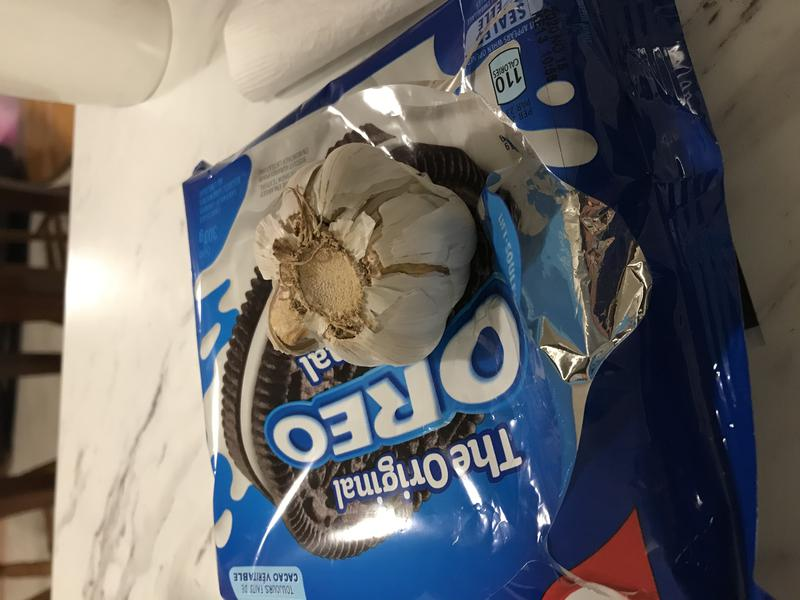garlic: (243, 136, 485, 375)
